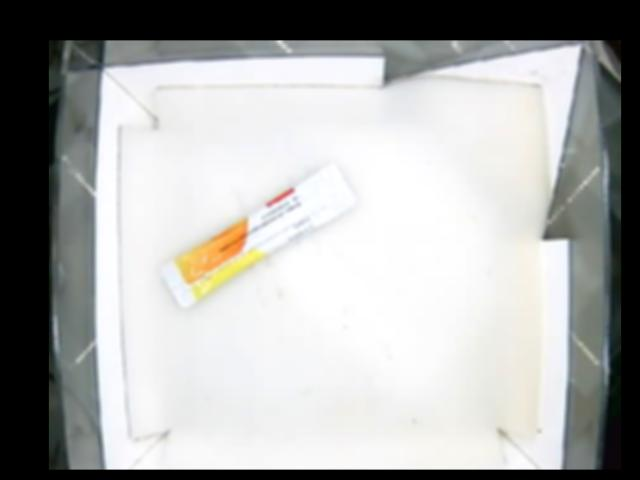Medicine: (158, 160, 356, 306)
